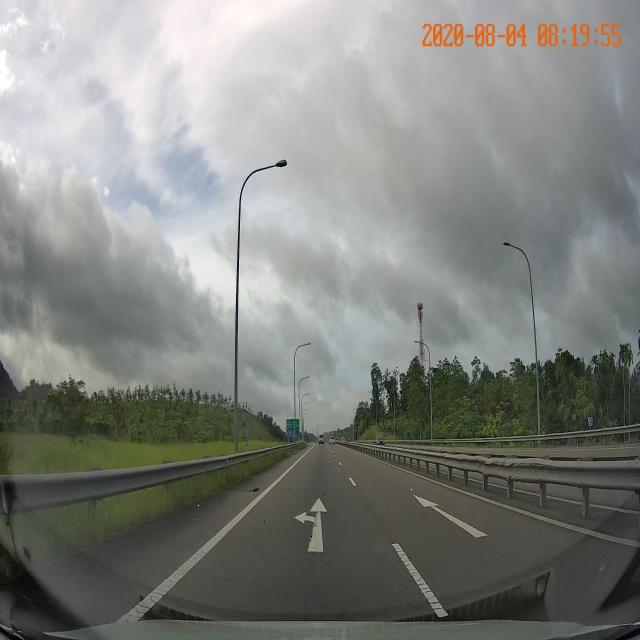forward_lft: (175, 487, 422, 575)
